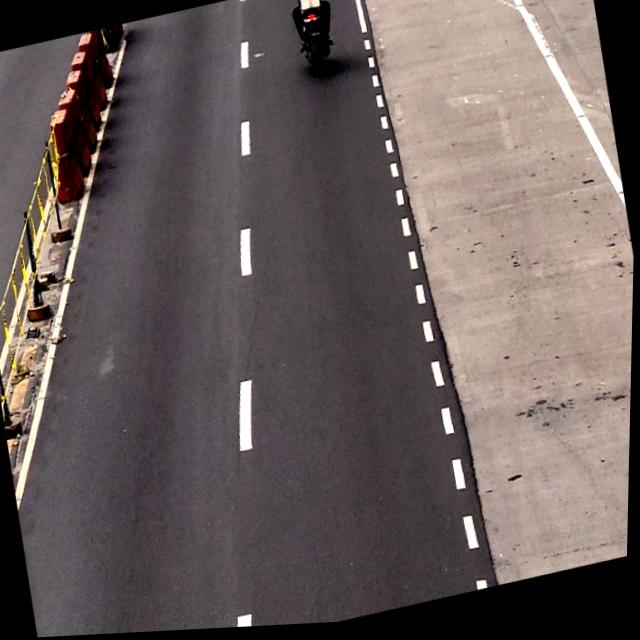Motorcycle: (285, 0, 339, 80)
